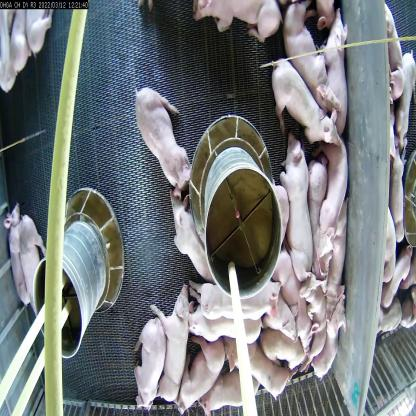Pig: (272, 54, 338, 153), (132, 82, 190, 189), (191, 264, 275, 336), (282, 129, 320, 279), (316, 127, 357, 258), (153, 281, 189, 412), (226, 333, 286, 405), (171, 197, 221, 282), (273, 252, 310, 359), (16, 214, 51, 314), (180, 330, 216, 416), (2, 205, 33, 301), (137, 314, 168, 405), (302, 270, 328, 366), (194, 374, 254, 414)
